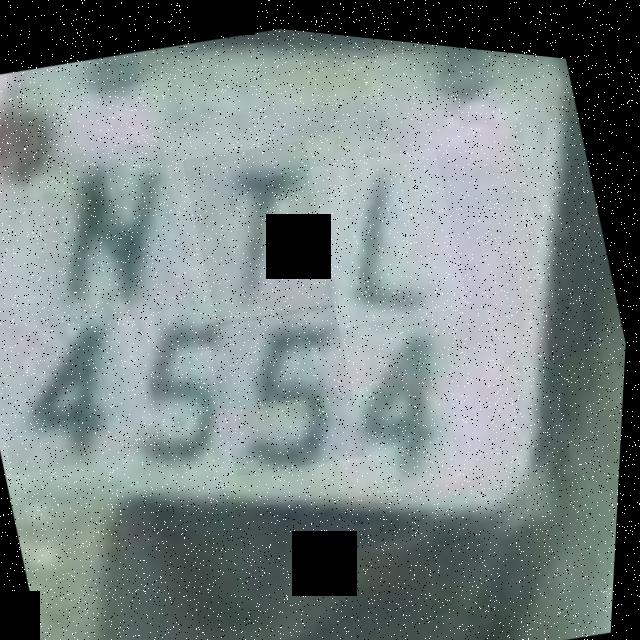4: (298, 269, 491, 502), (0, 275, 161, 484)
5: (89, 288, 267, 484), (202, 285, 376, 481)
J: (300, 127, 477, 330)
N: (11, 123, 206, 339)
T: (177, 123, 349, 331)
